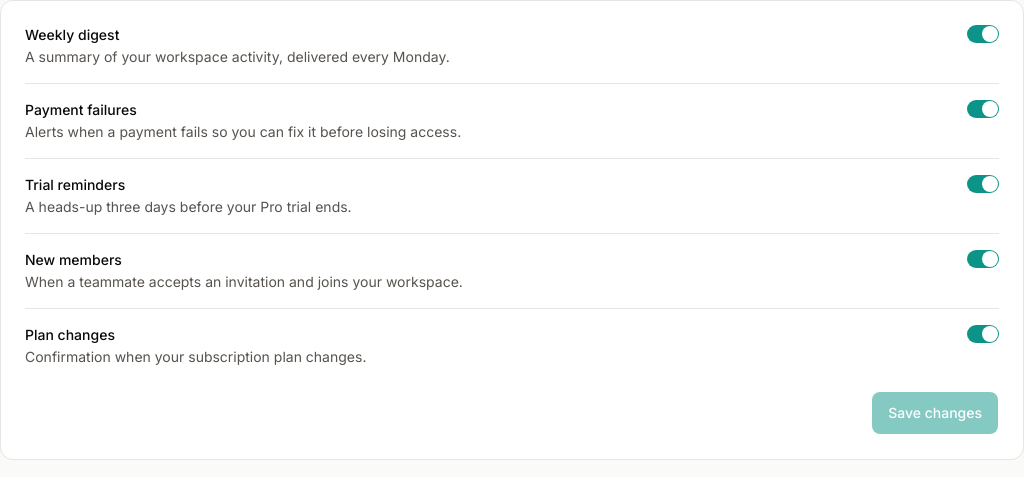
Test: NotificationsForm › disables Save until a preference changes
Expected: the button "Save changes" is disabled, [871, 391, 999, 435]
Click the switch named "Weekly digest" at (983,34), box [967, 25, 999, 43]
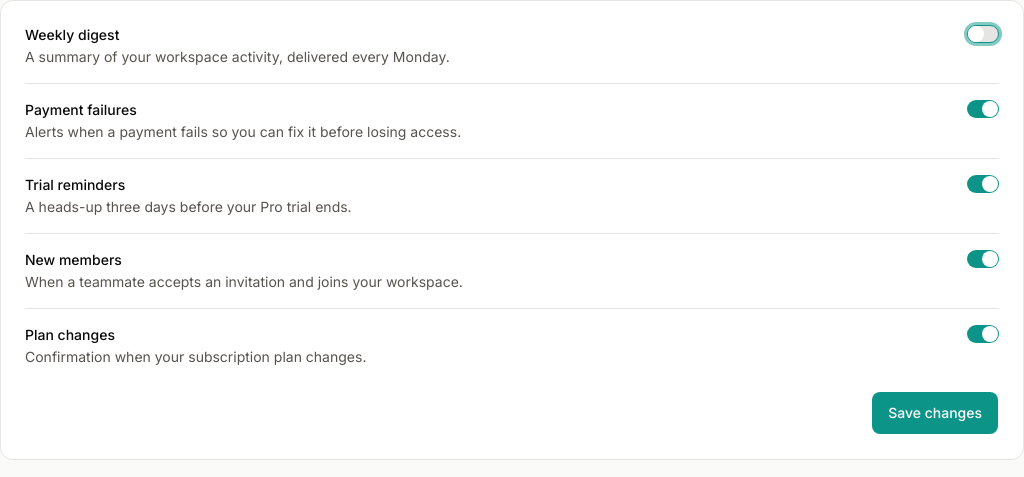
Result: the button "Save changes" is enabled at [871, 391, 999, 435]
